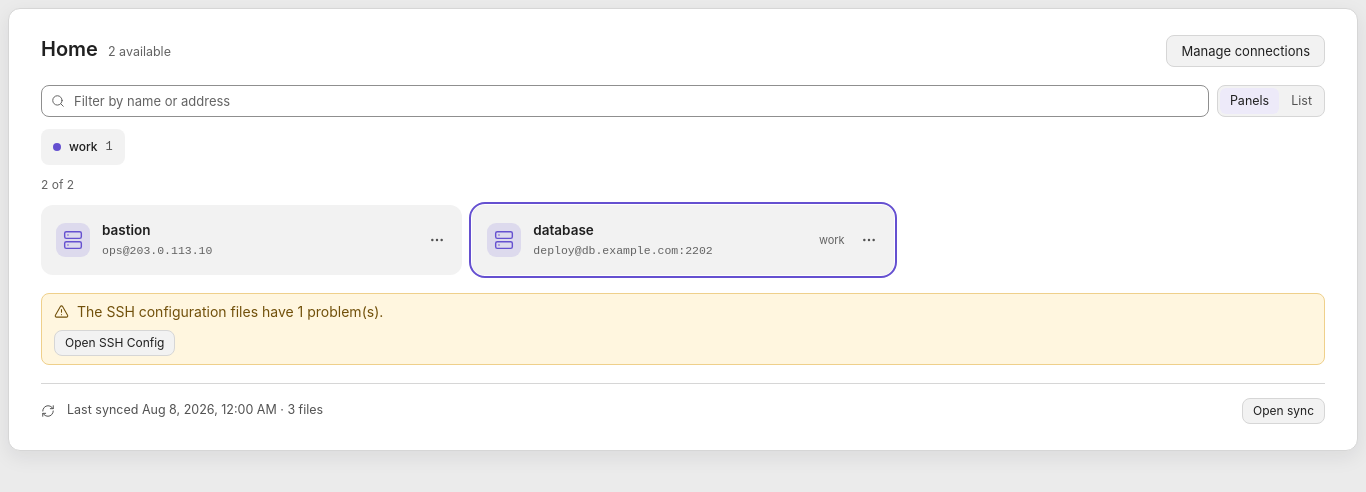
OverviewPanel › opens once from the focused card and reports readiness after the pending state
Press Enter
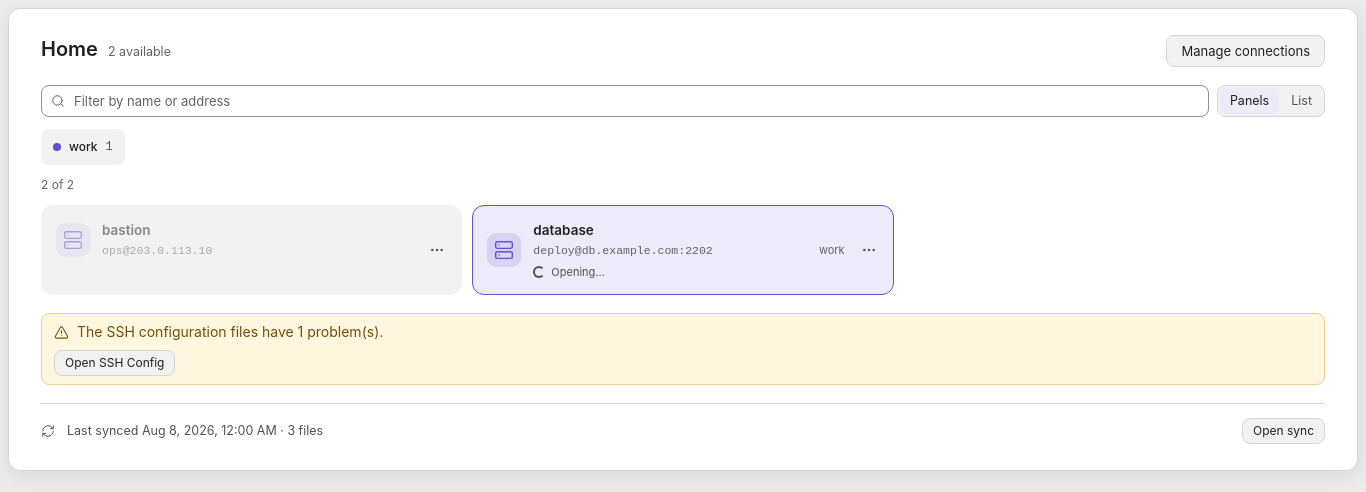
Check: the button with aria-label "Opening database…" is disabled, box [473,206,893,294]
Click the button with aria-label "Connect to bastion." at (73, 240), box [42,206,461,274]
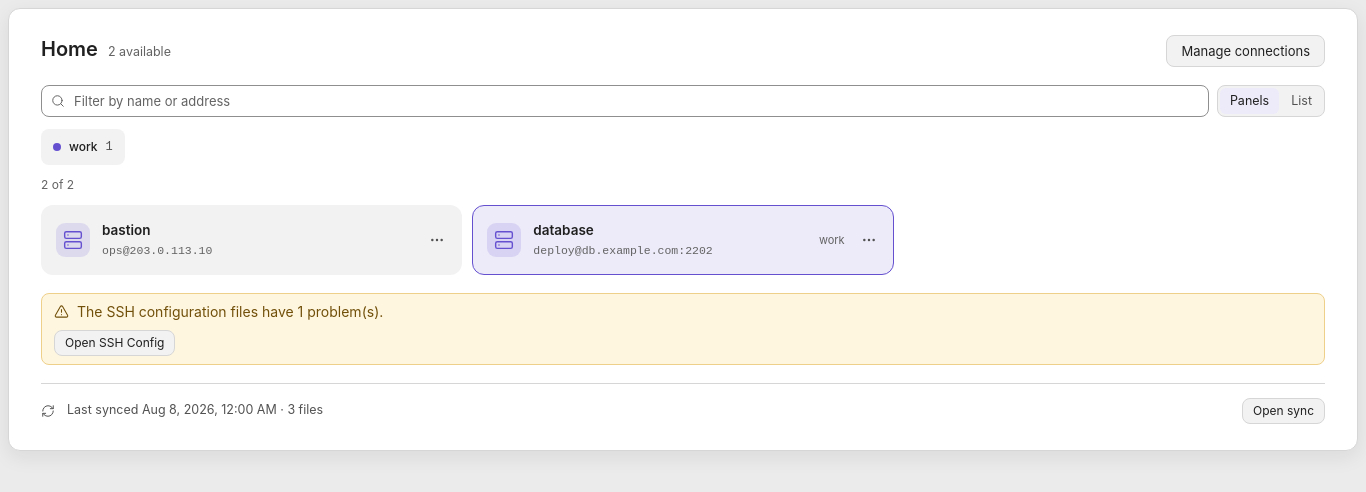
Check: the button with aria-label "Connect to bastion." is enabled, box [42,206,461,274]
